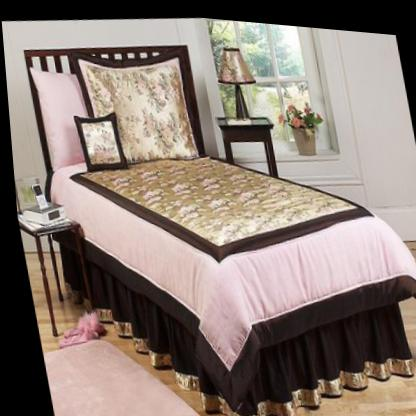Bed: (22, 41, 416, 416)
